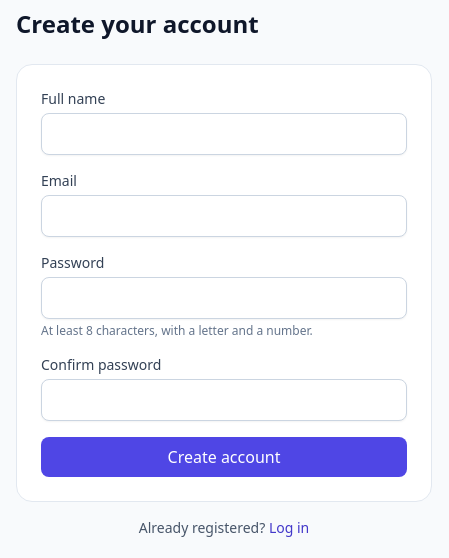
Test: Register form › rejects a password without a number
In the field labelled "Full name": point(224, 134) x1=41 y1=113 x2=407 y2=155, type "Asha Verma"
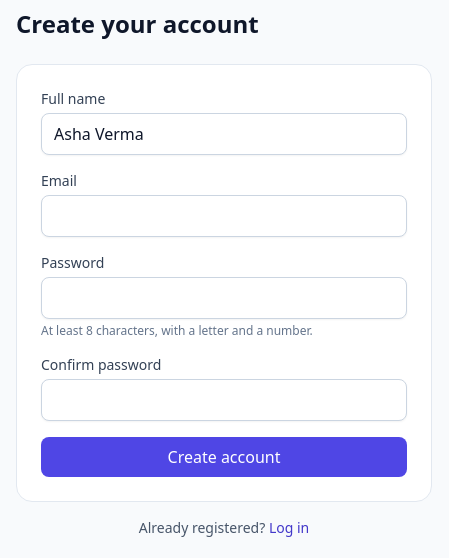
In the field labelled "Email": point(224, 216) x1=41 y1=195 x2=407 y2=237, type "asha@example.com"
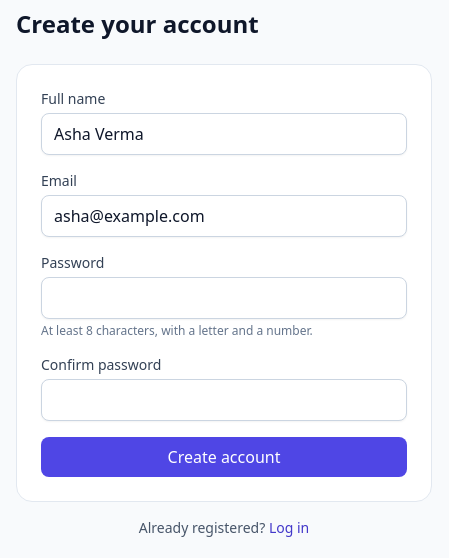
In the password field labelled "Password": point(224, 298) x1=41 y1=277 x2=407 y2=319, type "onlyletters"
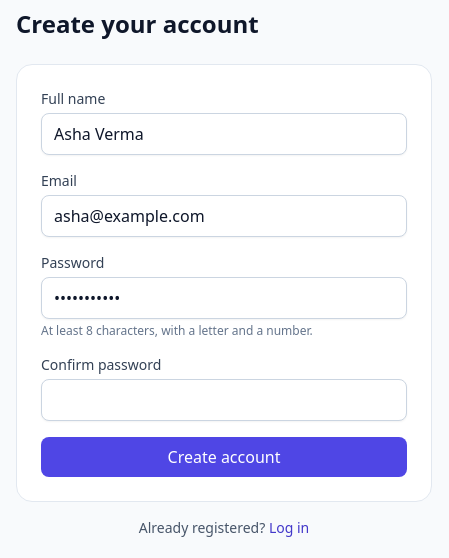
In the password field labelled "Confirm password": point(224, 400) x1=41 y1=379 x2=407 y2=421, type "onlyletters"
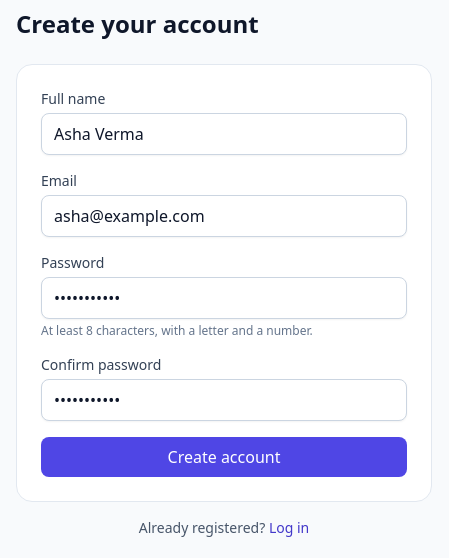
Click the button "Create account": point(224, 457) x1=41 y1=437 x2=407 y2=477
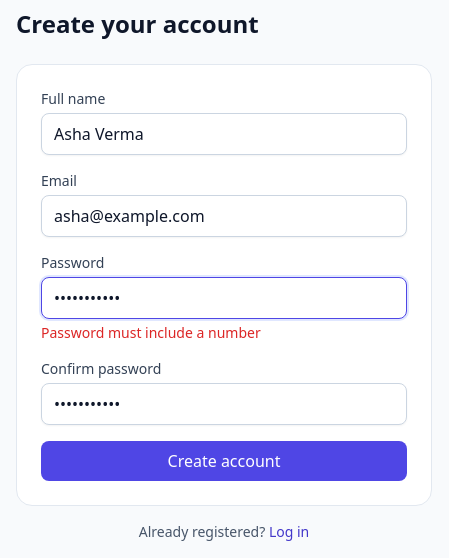
Result: the text "Password must include a number" is shown at x1=41 y1=323 x2=261 y2=342
